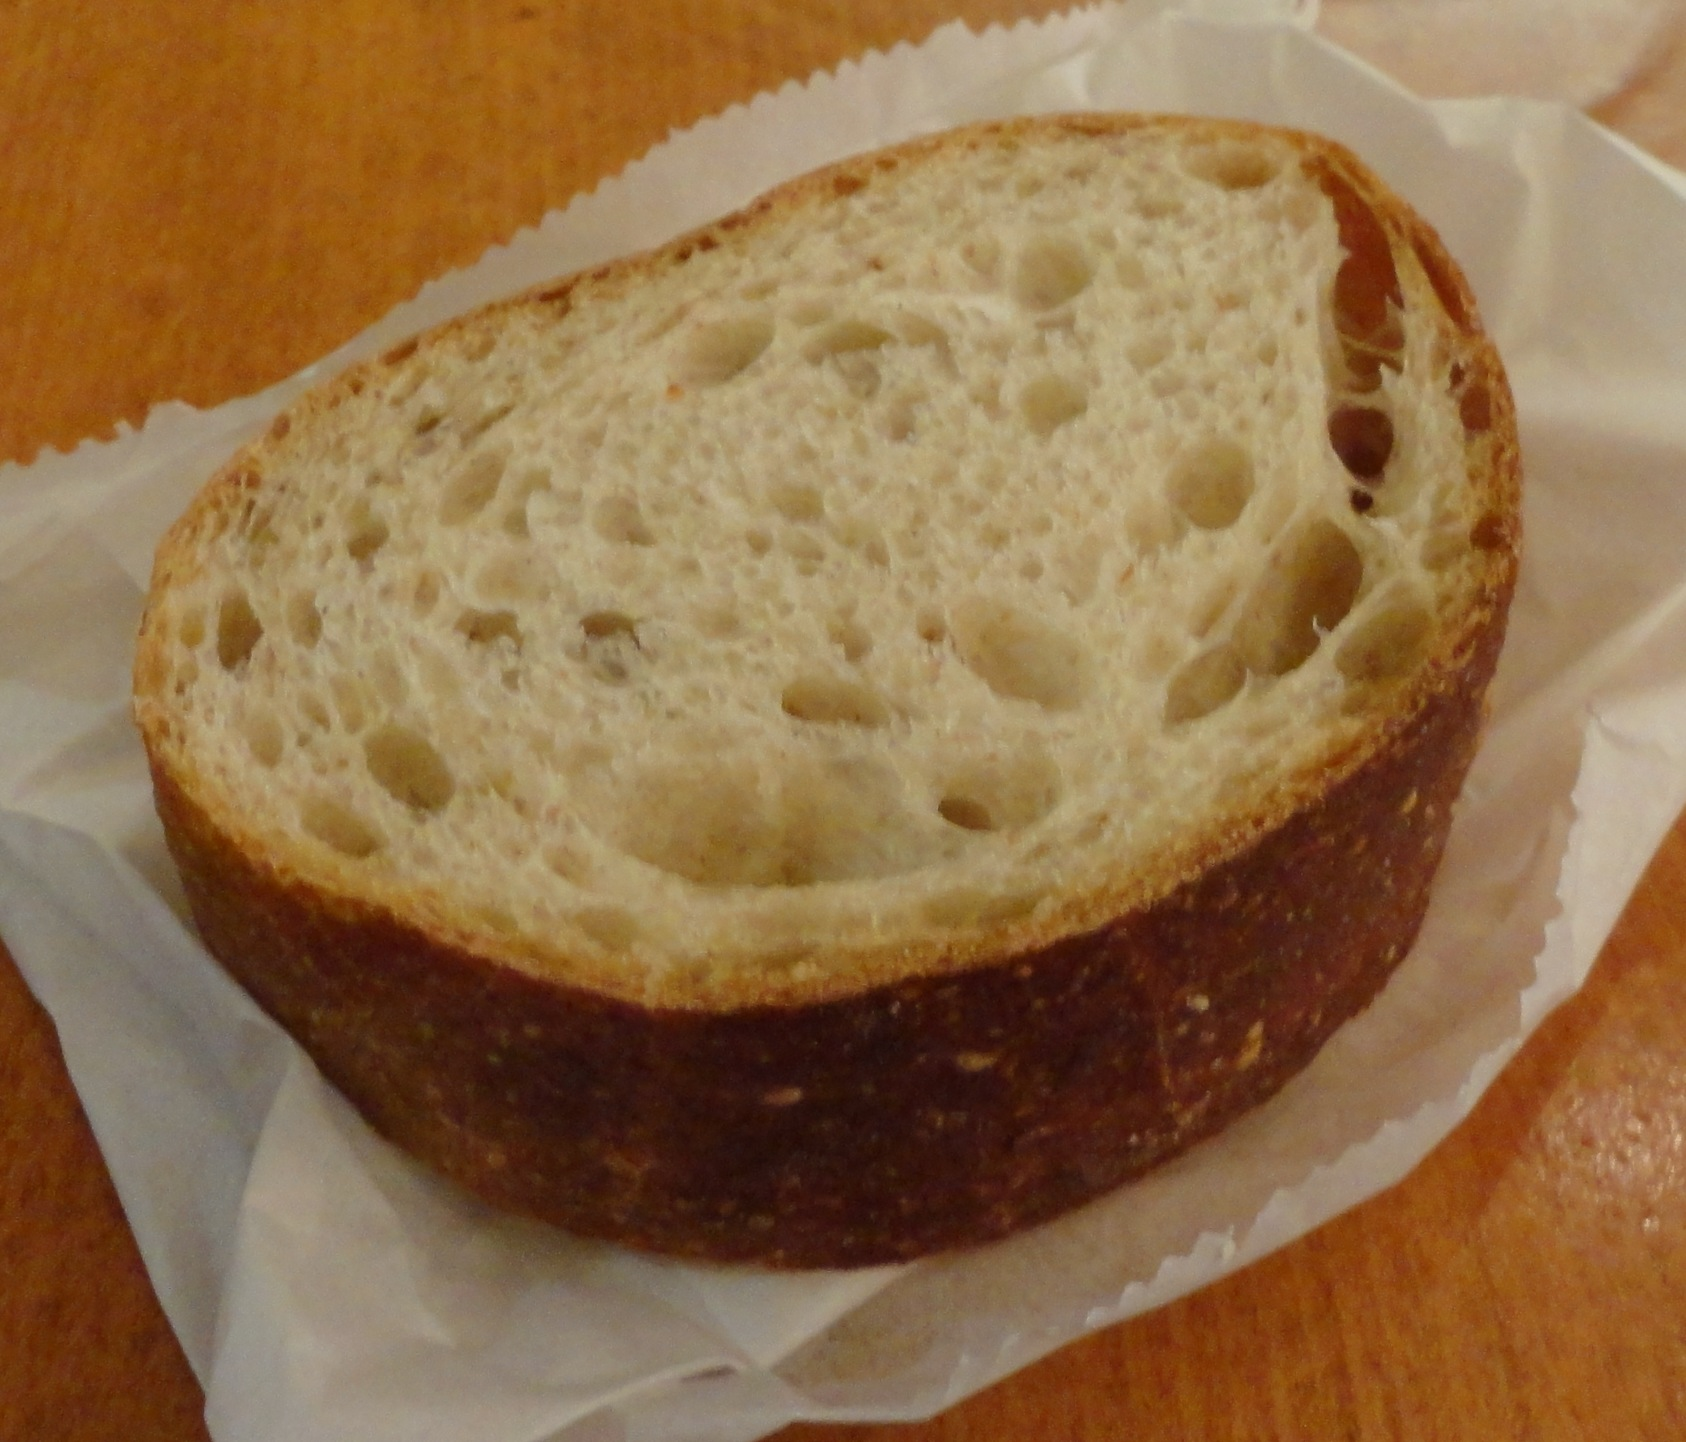slice of bread: (139, 84, 1520, 1197)
